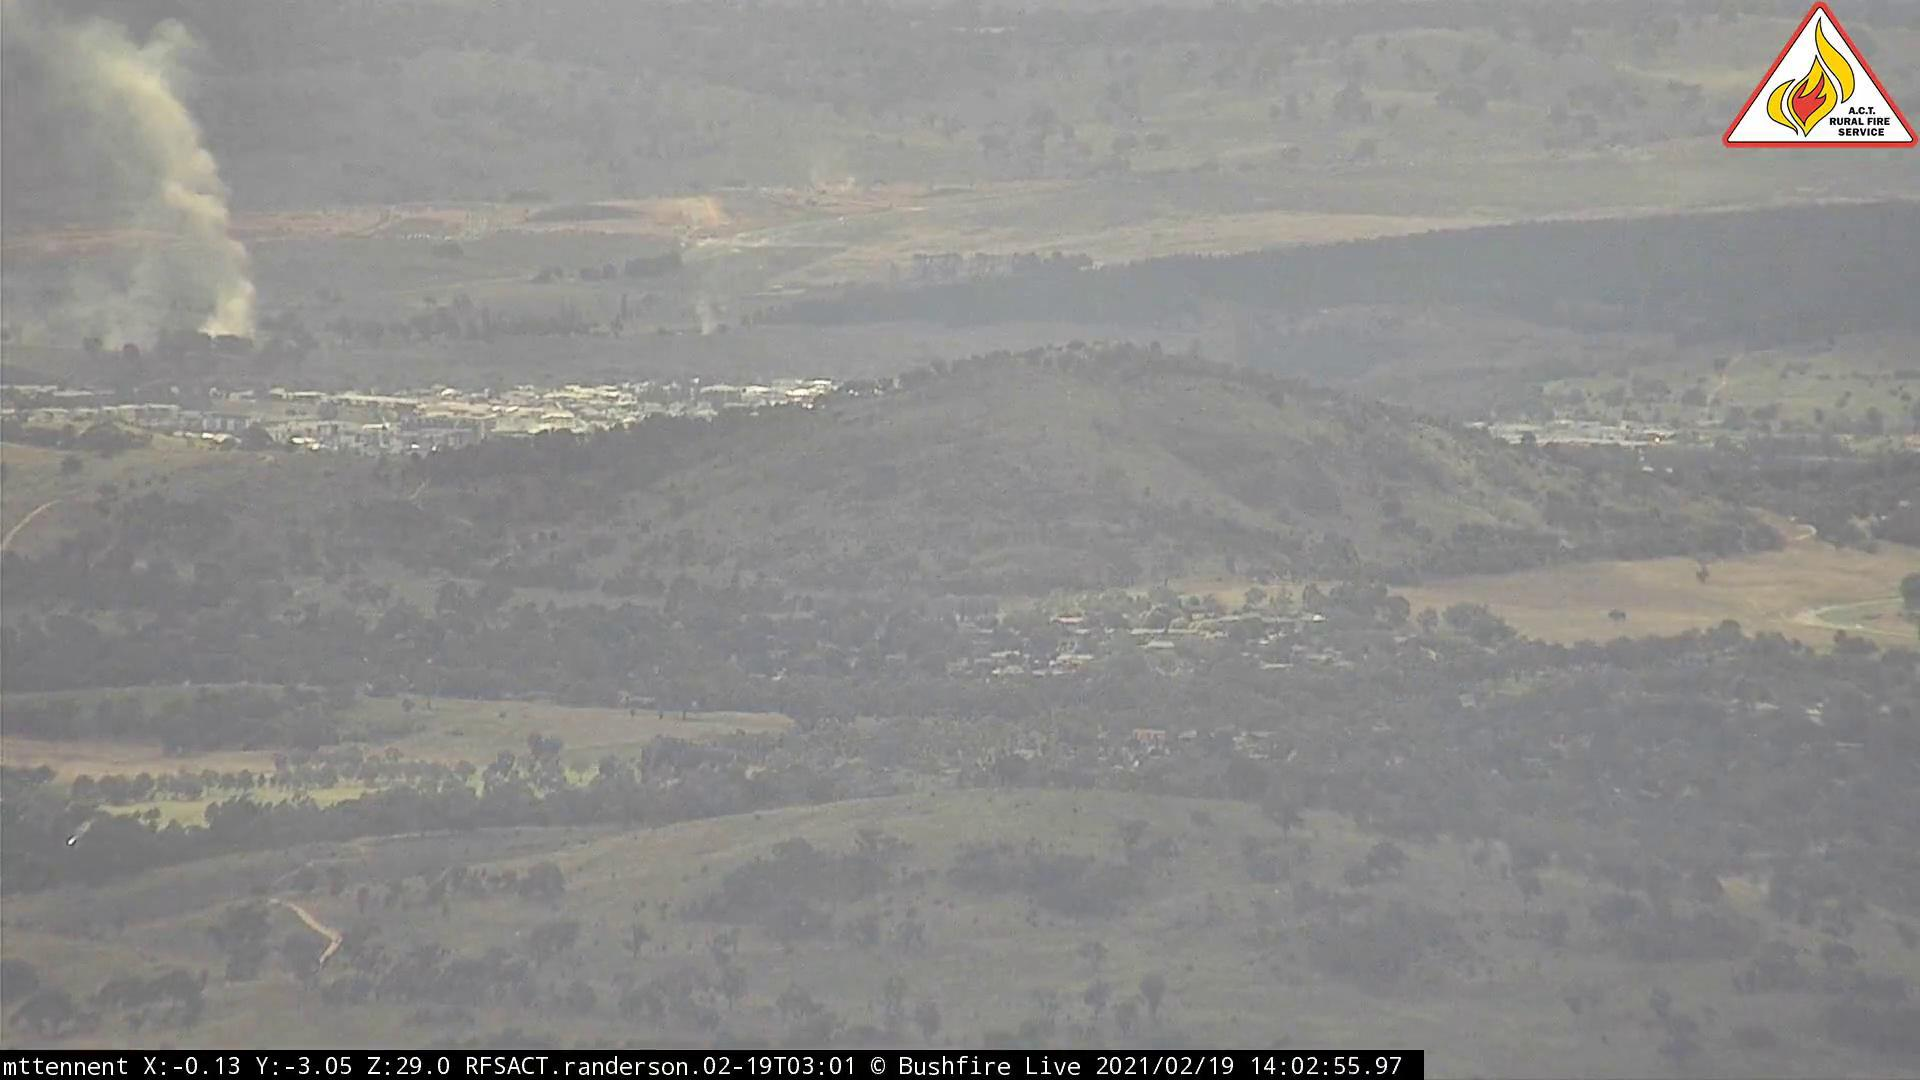Smoke: (3, 3, 280, 355), (691, 220, 794, 349)
